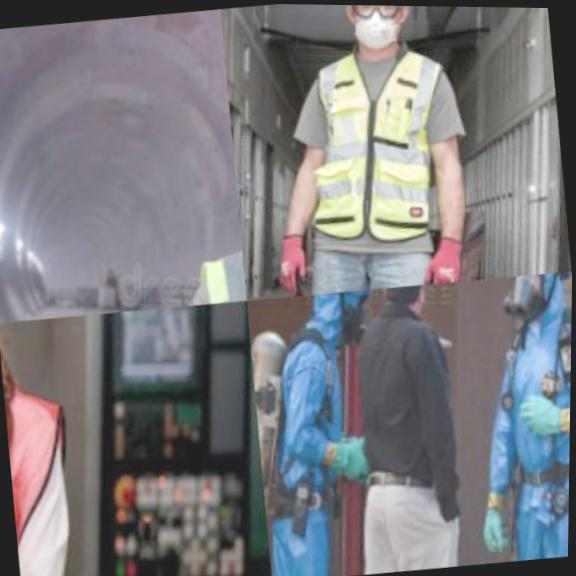safety_vest: (293, 27, 464, 249), (250, 295, 379, 536), (0, 326, 94, 576), (469, 307, 572, 502)
